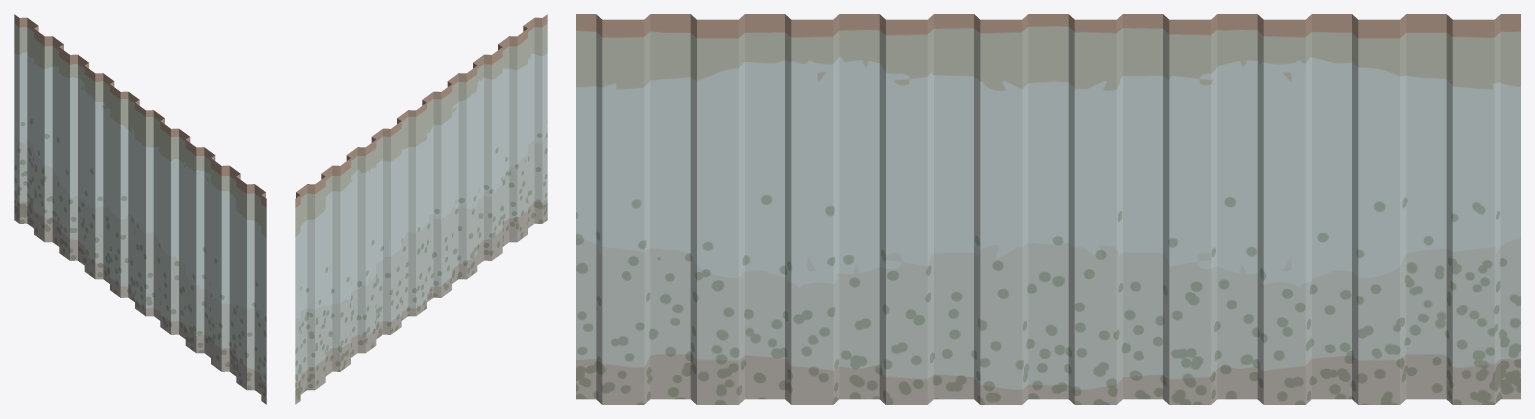
File: container.fbx
The picture shows the model from 3 angles, left to right: view 1: azimuth 30°, elevation 25°; view 2: azimuth 150°, elevation 25°; view 3: azimuth 270°, elevation 25°; orthographic projection. The views are drawn at different scales.
Visible parts, largest first — view 1: Container_Wall; view 2: Container_Wall; view 3: Container_Wall.
Part boxes in pixels (x1,y1,x2,y2): Container_Wall: [14, 14, 266, 404]; Container_Wall: [295, 14, 547, 404]; Container_Wall: [576, 14, 1520, 404].
Bounding box in the file's own units: 28.3 × 900 × 2000.
Materials: 1 (1 with a texture image).
